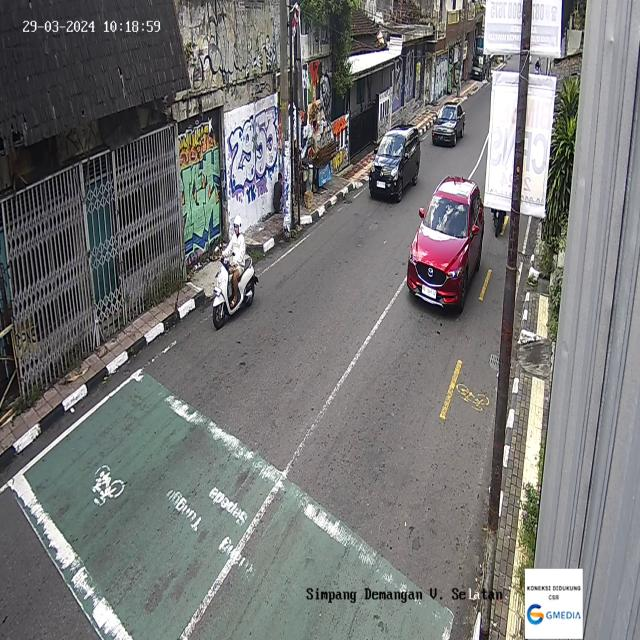car: (407, 174, 485, 314), (368, 125, 421, 203), (432, 101, 466, 147)
motorcycle: (212, 214, 258, 330)
